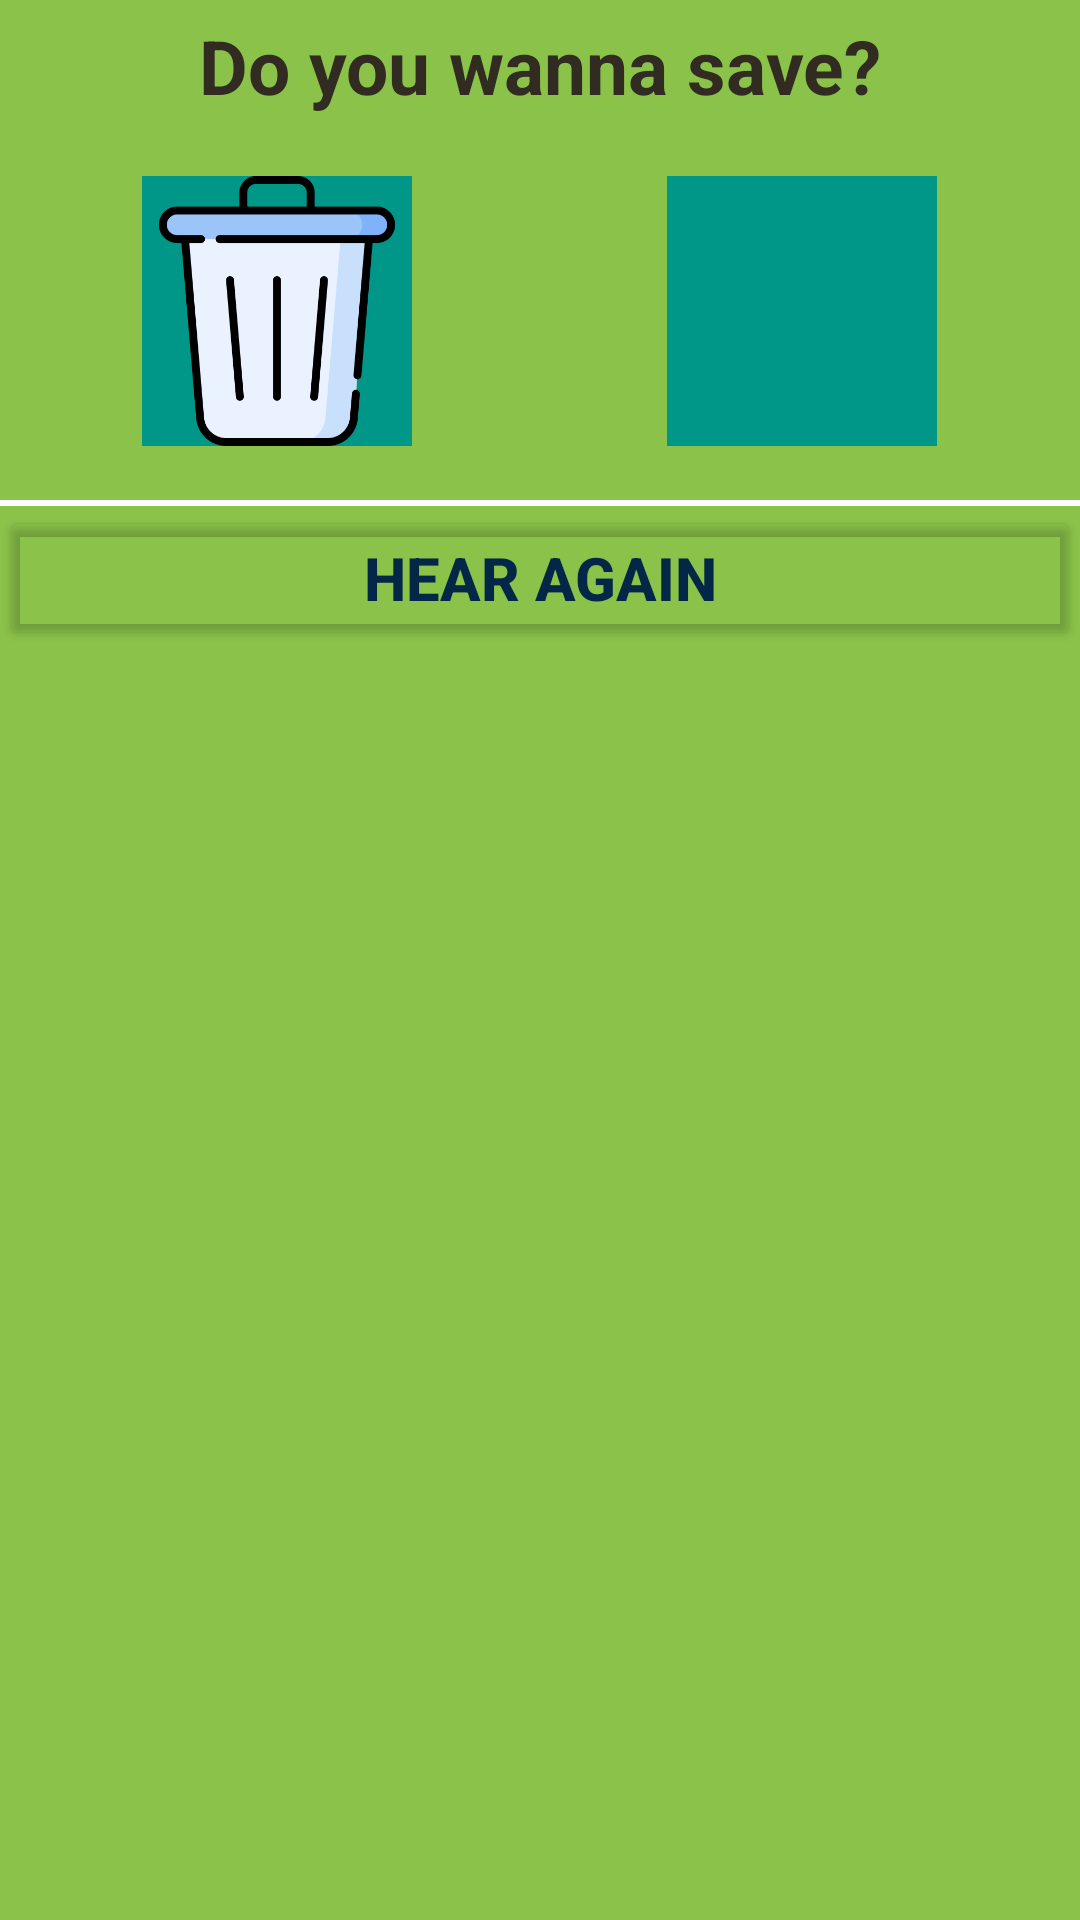

Icons on this 1080px×1920px Android screen, each with its box as (x1, y1, x2, y2):
trash bin: (142, 176, 412, 446)
